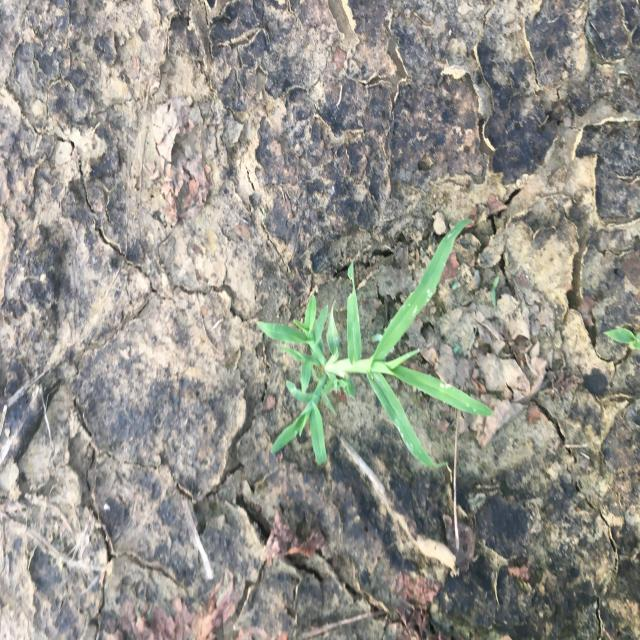Goosegrass: (254, 215, 496, 469)
